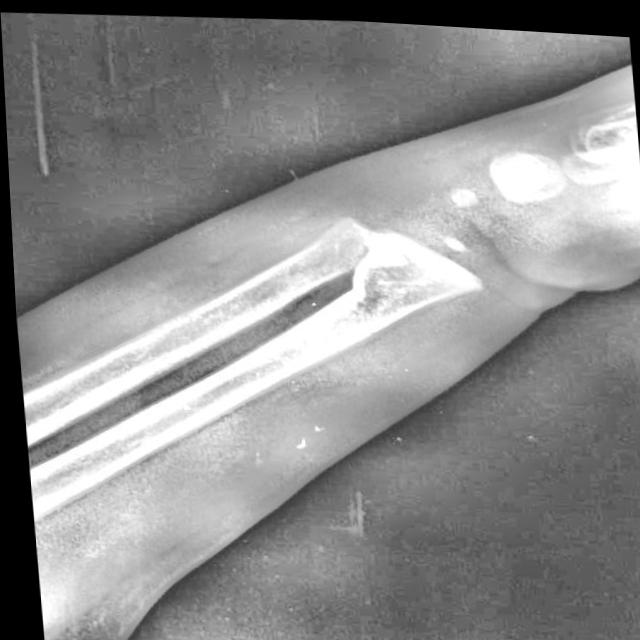fracture: (338, 267, 373, 300)
